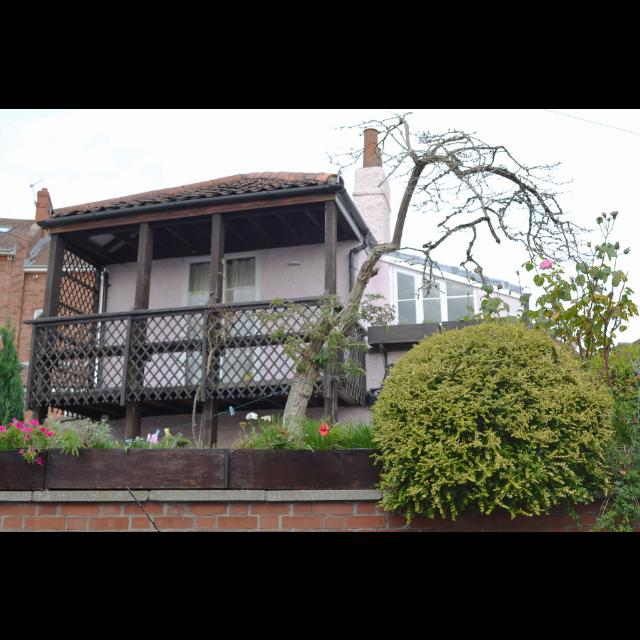Flower: (11, 420, 69, 466), (318, 422, 328, 434), (540, 258, 552, 268)
